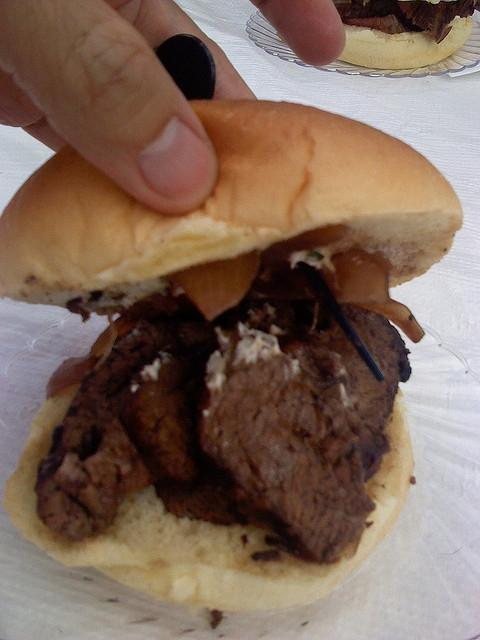onion: (322, 250, 425, 342), (165, 248, 261, 322), (264, 224, 350, 260), (47, 355, 96, 398)
